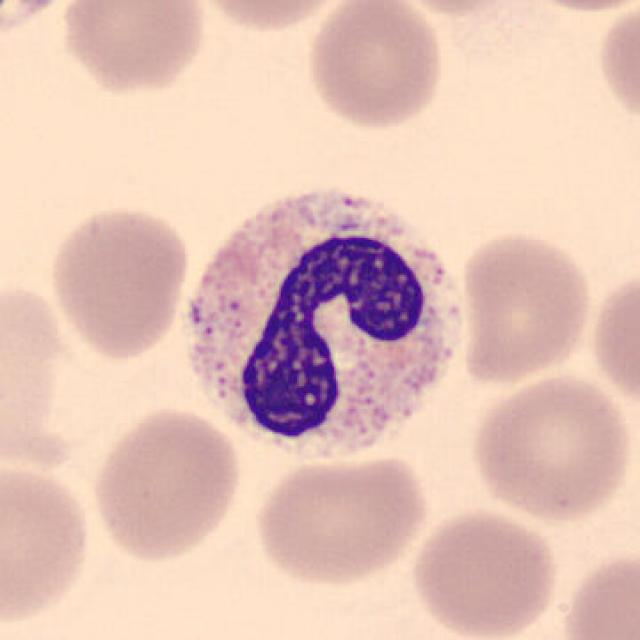Neutrophil: (169, 174, 475, 482)
RBC: (466, 368, 636, 526), (86, 402, 246, 564), (247, 451, 432, 591), (44, 201, 192, 363), (454, 226, 596, 388), (405, 504, 562, 638), (0, 271, 101, 474), (302, 0, 448, 134), (0, 457, 96, 633), (55, 0, 210, 99), (587, 261, 638, 418), (555, 545, 638, 640), (188, 0, 359, 35), (594, 0, 638, 134), (0, 0, 85, 47), (388, 0, 528, 18), (512, 0, 640, 14)
